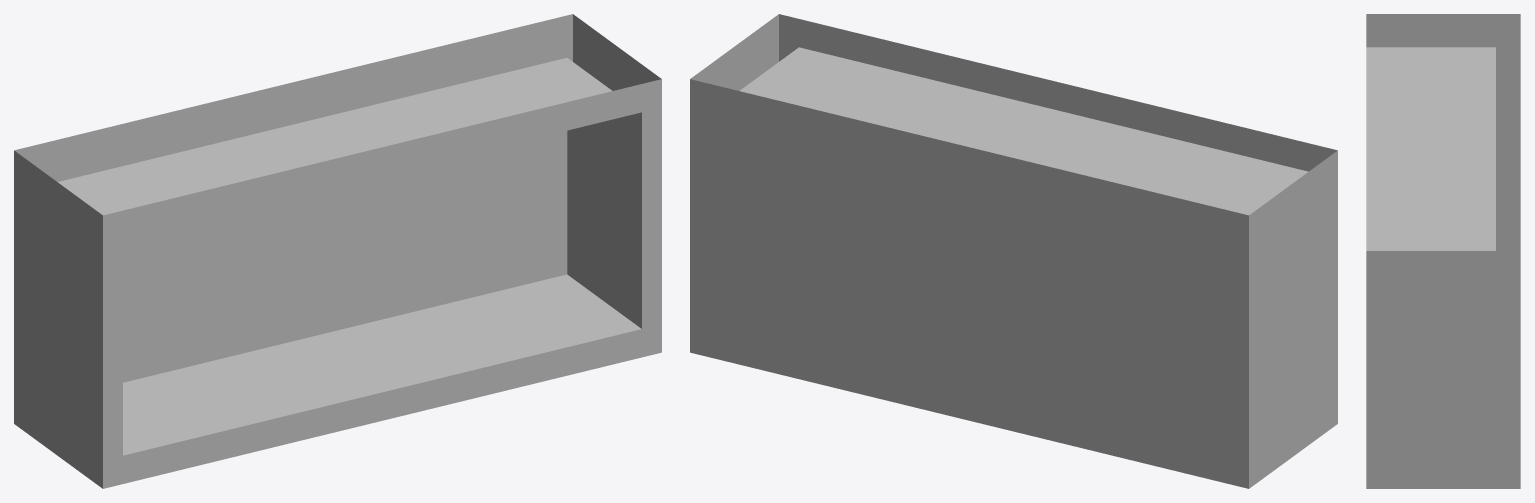
The model's file is Itr_Wardrobe4_Body2_06.FBX.
3 views of the same model, side by side, from view 1: azimuth 30°, elevation 25°; view 2: azimuth 150°, elevation 25°; view 3: azimuth 270°, elevation 25° (orthographic). The views are drawn at different scales.
Parts seen in each view (by area): view 1: Itr_Wardrobe4_Body2_06; view 2: Itr_Wardrobe4_Body2_06; view 3: Itr_Wardrobe4_Body2_06.
Boxes of the visible parts, x1,y1,x2,y2 form: Itr_Wardrobe4_Body2_06: (14, 14, 661, 488); Itr_Wardrobe4_Body2_06: (690, 14, 1337, 488); Itr_Wardrobe4_Body2_06: (1366, 14, 1520, 488).
Bounding box in the file's own units: 59.06 × 27.62 × 16.27.
